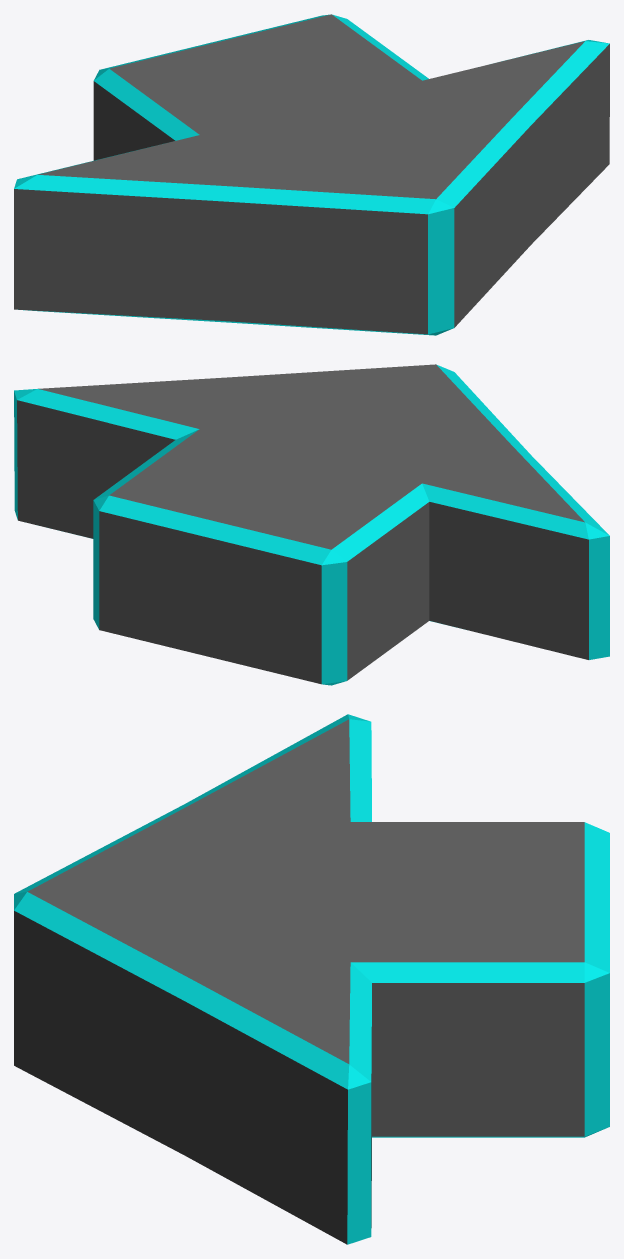
The model's file is Arrow_002.fbx.
3 views of the same model, one above another, from view 1: azimuth 30°, elevation 25°; view 2: azimuth 150°, elevation 25°; view 3: azimuth 270°, elevation 25° (orthographic). The views are drawn at different scales.
Visible parts, largest first — view 1: pCube1; view 2: pCube1; view 3: pCube1.
Boxes of the visible parts, bbox=[...] form: pCube1: bbox=[14, 14, 609, 335]; pCube1: bbox=[14, 364, 609, 685]; pCube1: bbox=[14, 714, 609, 1244].
Size of the model in its own units: 0.8642 by 0.189 by 0.5796.
